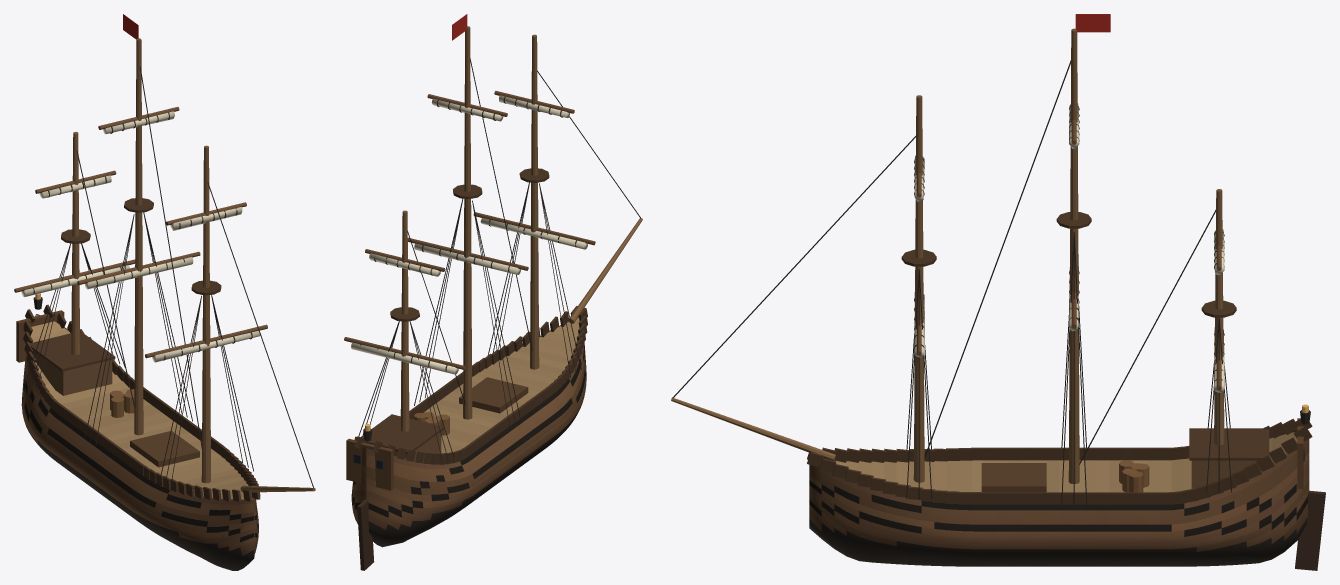
Rendered from ship.glb.
3 renders of one model, left to right at view 1: azimuth 30°, elevation 25°; view 2: azimuth 150°, elevation 25°; view 3: azimuth 270°, elevation 25°, orthographic. The views are drawn at different scales.
Visible parts, largest first — view 1: ship_wood, ship_hull, ship_rope, ship_sail; view 2: ship_wood, ship_hull, ship_rope, ship_sail; view 3: ship_hull, ship_wood, ship_rope, ship_sail.
Boxes of the visible parts, x1,y1,x2,y2 form: ship_wood: (14,38,315,501); ship_hull: (21,314,258,570); ship_rope: (26,66,314,491); ship_sail: (21,111,260,362); ship_wood: (344,26,642,570); ship_hull: (351,316,586,547); ship_rope: (358,58,640,465); ship_sail: (351,95,587,374); ship_hull: (809,430,1309,566); ship_wood: (671,28,1325,570); ship_rope: (671,60,1231,504); ship_sail: (914,103,1224,392).
Bounding box in the file's own units: 6.41 × 24.54 × 26.2.
